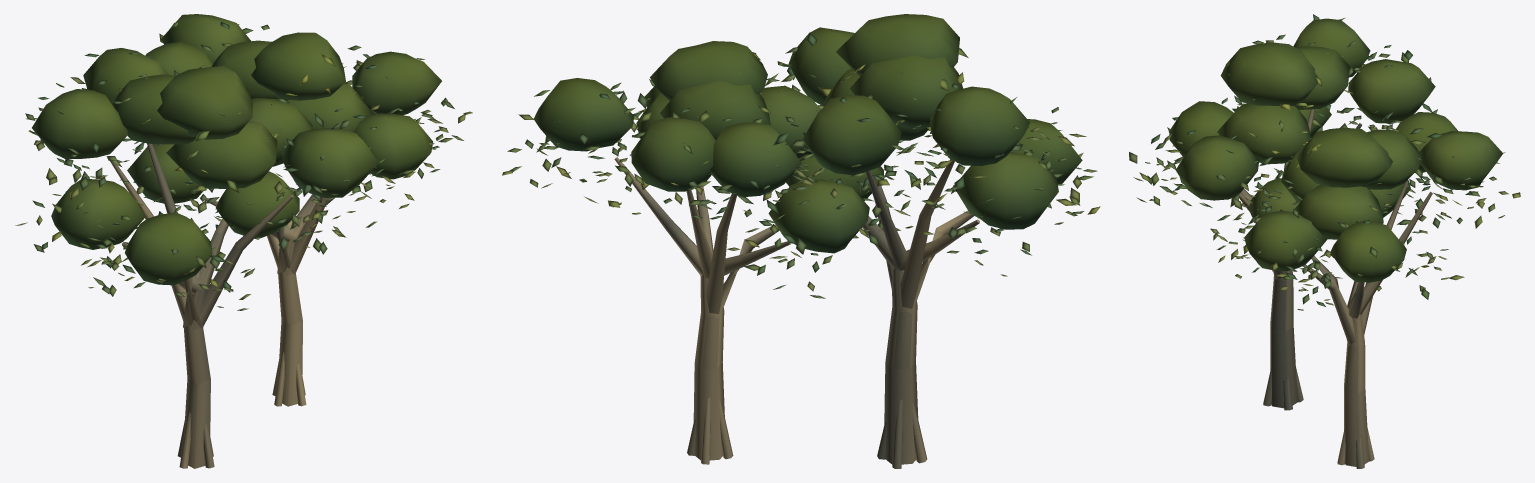
The model's file is ART_IslandWood.glb.
3 renders of one model, left to right at view 1: azimuth 30°, elevation 25°; view 2: azimuth 150°, elevation 25°; view 3: azimuth 270°, elevation 25°, orthographic. The views are drawn at different scales.
Visible parts, largest first — view 1: ART_IslandWood; view 2: ART_IslandWood; view 3: ART_IslandWood.
Boxes of the visible parts, x1,y1,x2,y2 form: ART_IslandWood: (15,14,472,468); ART_IslandWood: (502,14,1100,468); ART_IslandWood: (1129,14,1520,468).
Bounding box in the file's own units: 18.34 × 15.13 × 15.12.
